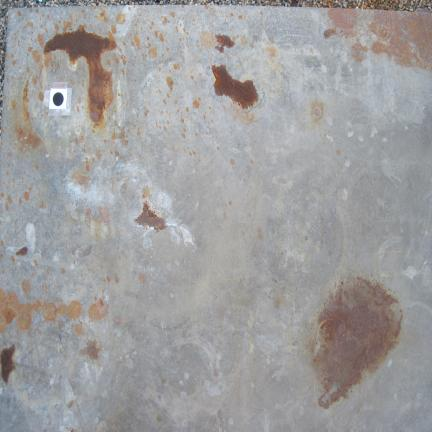besi_tidak_karat: (173, 120, 432, 271), (121, 286, 311, 432)
karat: (312, 277, 402, 408), (44, 26, 116, 127)
